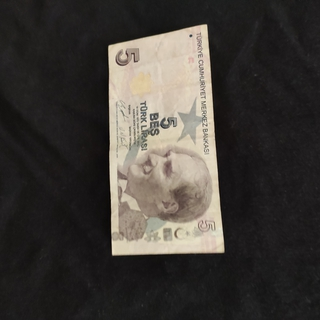5TLFront: (107, 23, 226, 256)
